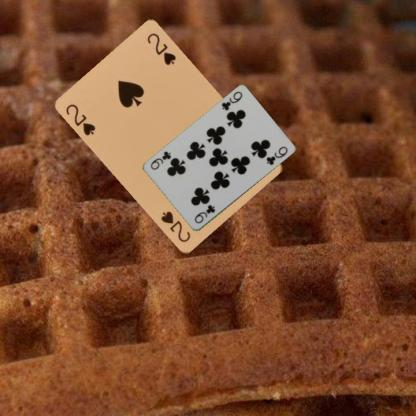2s: (64, 101, 97, 137)
9c: (219, 89, 244, 112), (192, 202, 216, 225)
